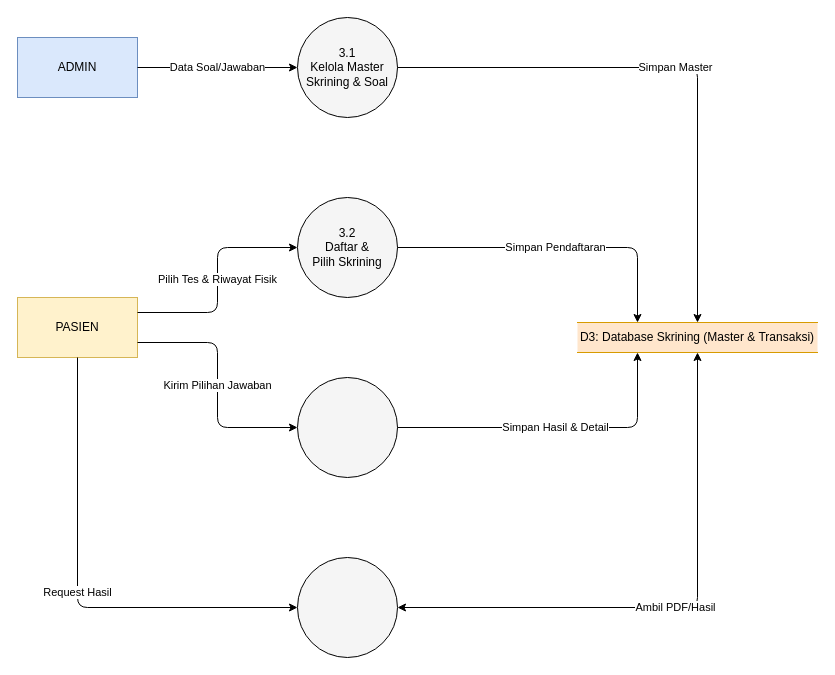
Some shapes in this 835 by 675 pixel diagram are drawn without their labels. Each missing label, with the centre of its shape:
"3.3 Pelaksanaan Tes & Kalkulasi" belongs at pixel 347 427.
"3.4 Cetak & Lihat Hasil" belongs at pixel 347 607.
